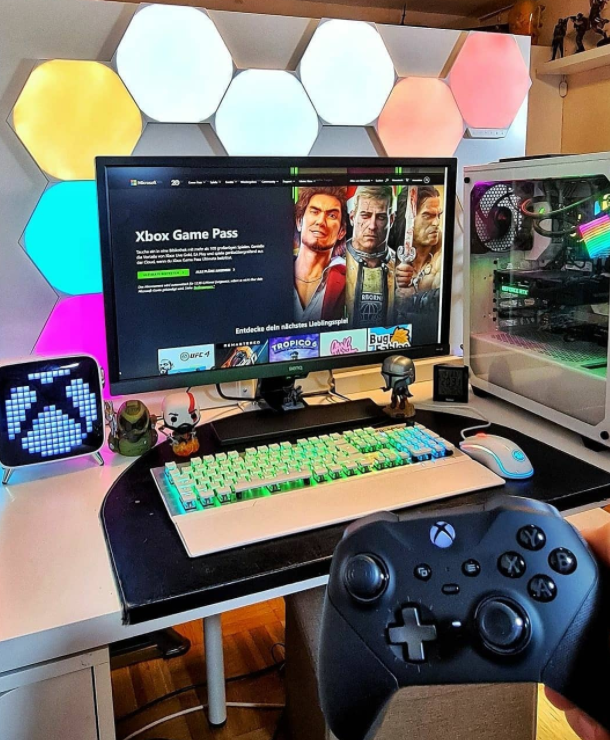gamingconsole: (330, 496, 606, 718)
